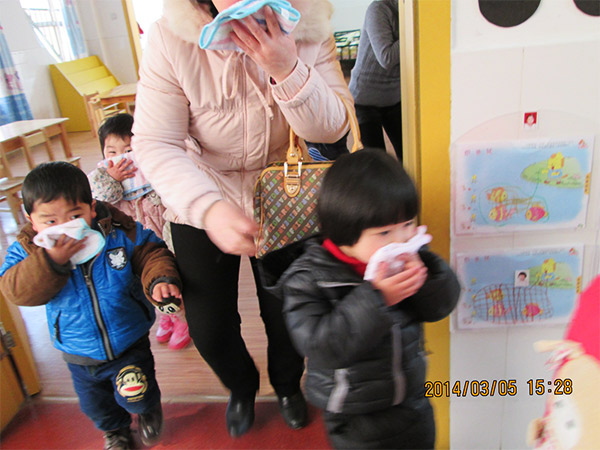face: (361, 206, 418, 271), (34, 196, 87, 252), (105, 135, 143, 179)
